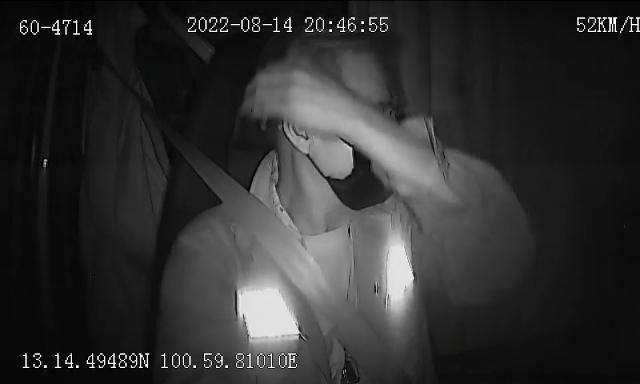Seatbelt: (178, 130, 400, 384)
